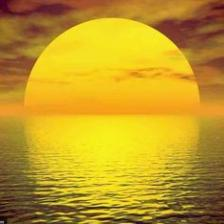yellow: (25, 19, 200, 113)
